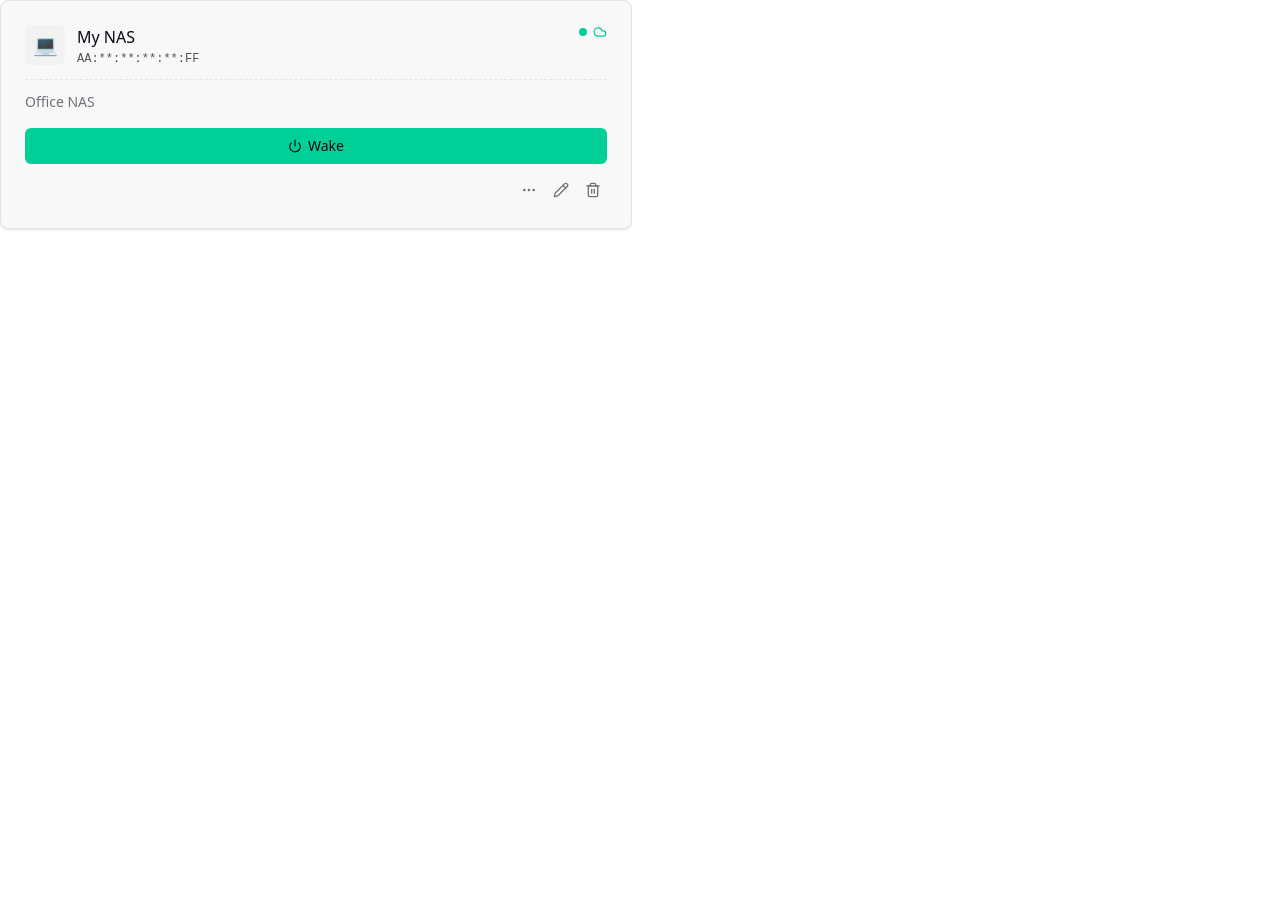
DeviceList (重构后) › opens §3.7 detail dialog on ··· click showing three zones + masked MAC
Click the button named "Device details".
click(529, 190)  # box [515,176,543,204]
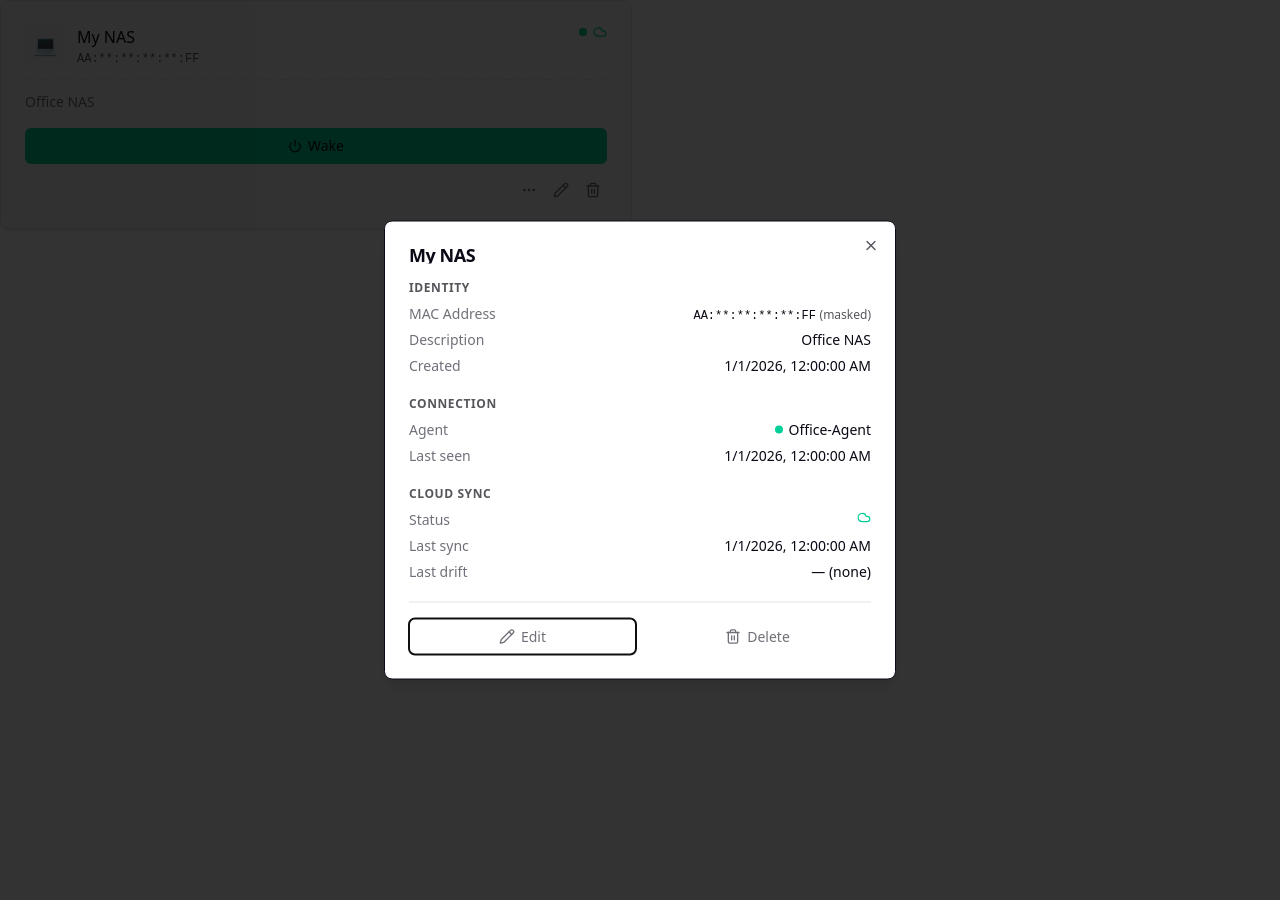
Expected: the heading "IDENTITY" is shown, [409,278,470,296]
Expected: the heading "CONNECTION" is shown, [409,394,497,412]
Expected: the heading "CLOUD SYNC" is shown, [409,484,491,502]
